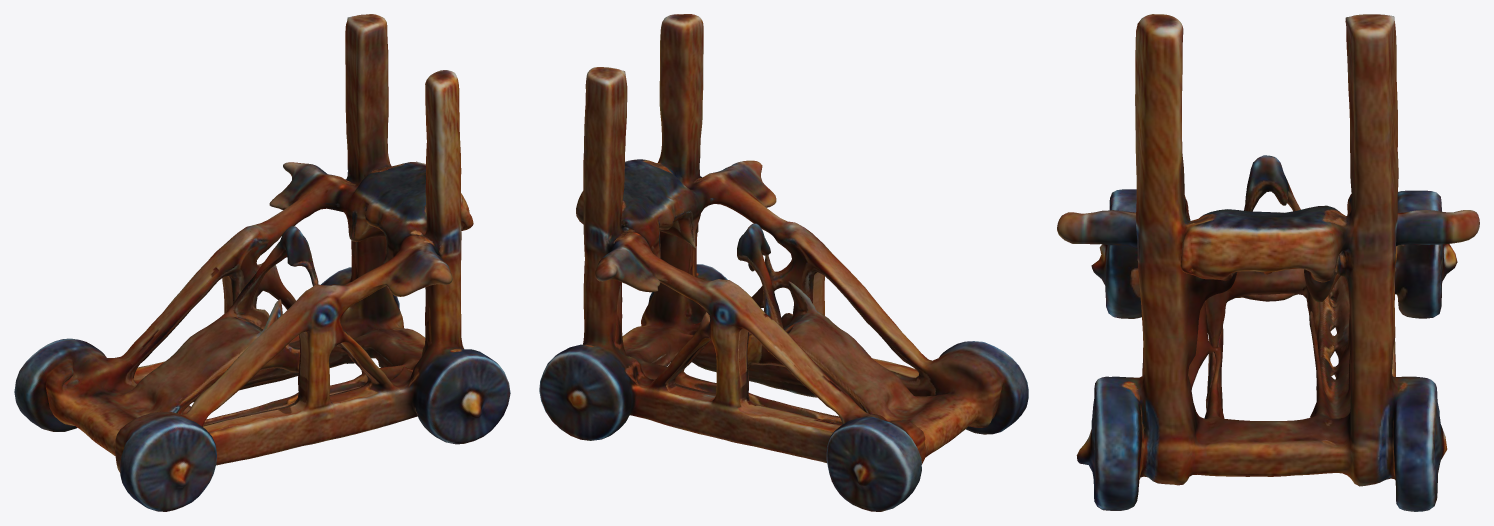
The model's file is ae541dd33539_A_simple_wooden_cat.fbx.
The picture shows the model from 3 angles, left to right: view 1: azimuth 30°, elevation 25°; view 2: azimuth 150°, elevation 25°; view 3: azimuth 270°, elevation 25°; orthographic projection. The views are drawn at different scales.
Parts seen in each view (by area): view 1: mesh; view 2: mesh; view 3: mesh.
Boxes of the visible parts, box(x1,y1,x2,y2) form: mesh: box(14, 14, 510, 511); mesh: box(539, 14, 1028, 511); mesh: box(1057, 14, 1479, 511).
Size of the model in its own units: 99.89 by 88.95 by 70.59.
